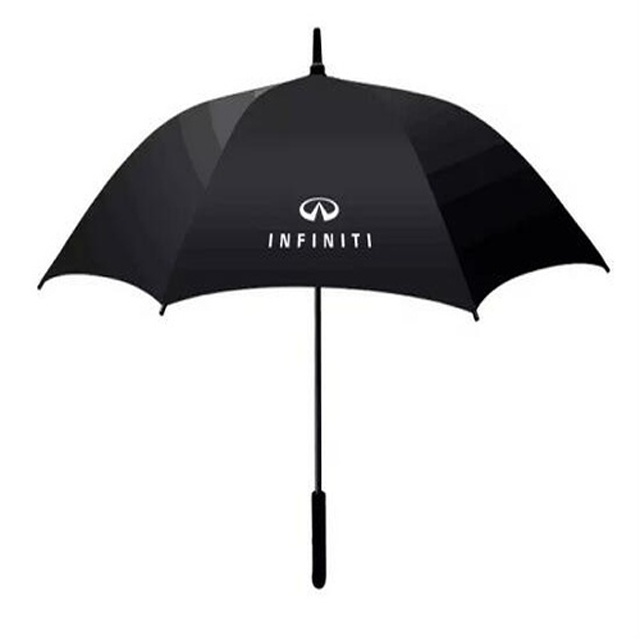umbrella: (32, 25, 615, 593)
